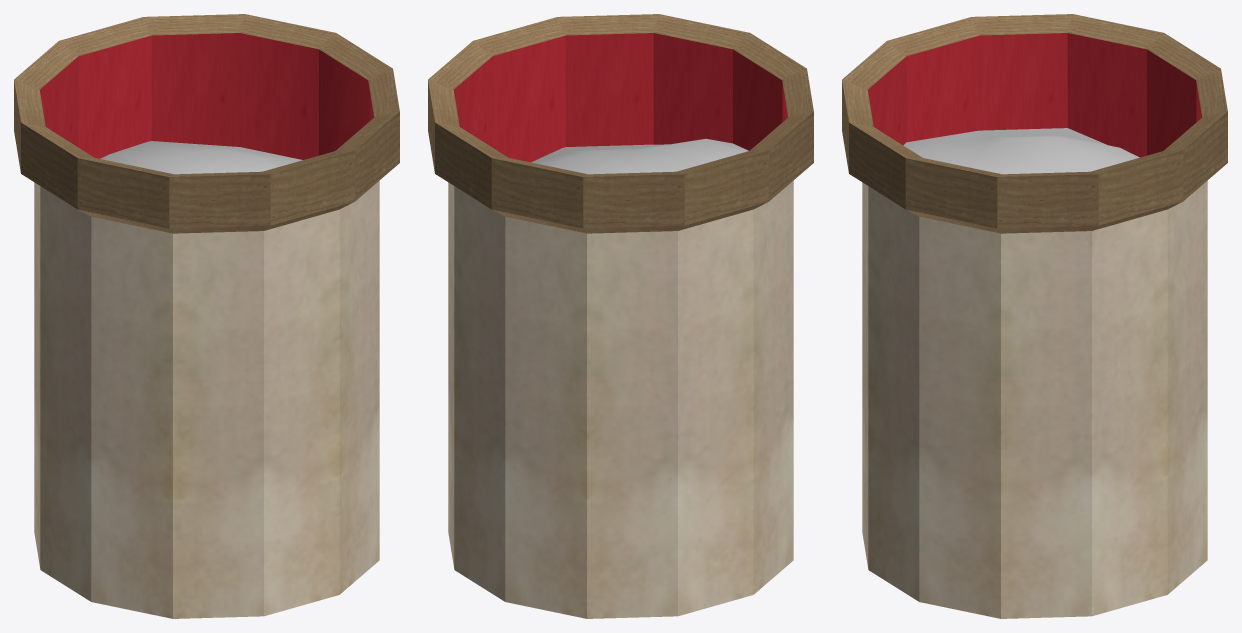
File: SneezePowder.fbx
3 renders of one model, left to right at view 1: azimuth 30°, elevation 25°; view 2: azimuth 150°, elevation 25°; view 3: azimuth 270°, elevation 25°, orthographic.
Visible parts, largest first — view 1: polySurface364, polySurface363; view 2: polySurface364, polySurface363; view 3: polySurface364, polySurface363.
Boxes of the visible parts, bbox=[...] form: polySurface364: bbox=[14, 14, 399, 618]; polySurface363: bbox=[100, 141, 302, 174]; polySurface364: bbox=[428, 14, 813, 618]; polySurface363: bbox=[531, 138, 748, 174]; polySurface364: bbox=[842, 14, 1227, 618]; polySurface363: bbox=[903, 128, 1139, 174].
Size of the model in its own units: 0.7249 by 0.9335 by 0.7248.
